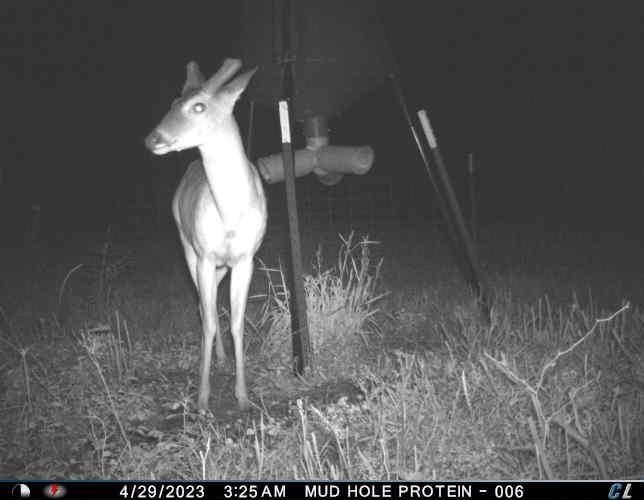Deer: (143, 51, 269, 419)
